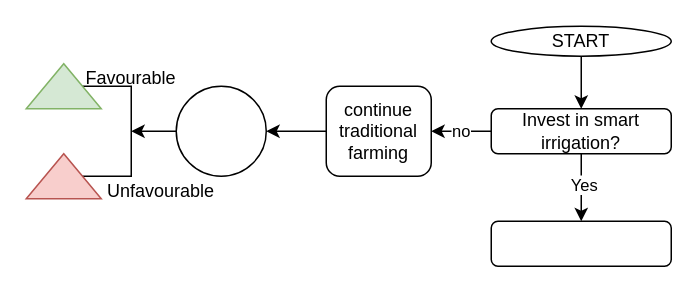
This 698x293 diagram has some shape labels left out. The shapes that lost their labels are listed below. From the top down, each one's centre as x and y in pixels, then its label:
At (220,130): "weathear".
At (580,243): "How to finance?".
